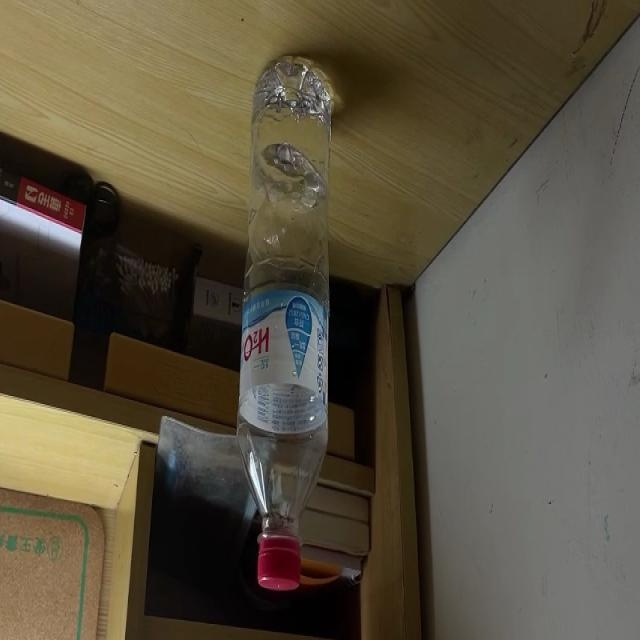Water: (243, 55, 328, 592)
